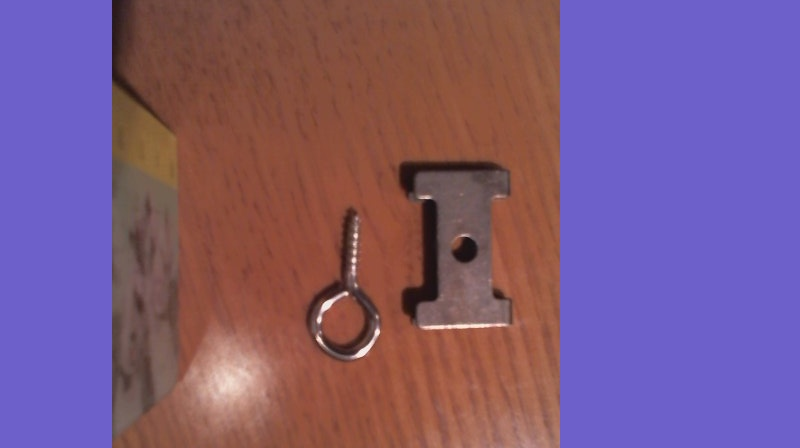O001: (307, 202, 383, 366)
O002: (399, 161, 517, 334)
